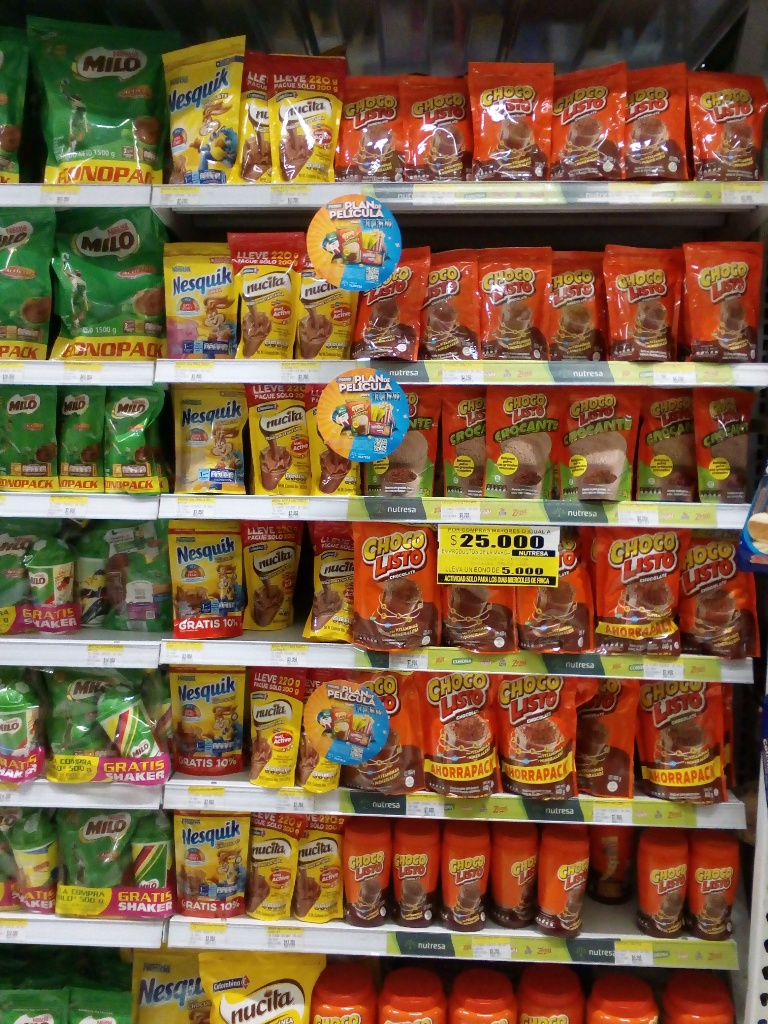COL0170102DYP25000: (369, 395, 443, 496)
COL0170103DYP44000: (637, 678, 737, 807)
COL0170103TRR30000: (336, 813, 396, 929)
COL0170203DYP25000: (104, 384, 167, 494)
COL0170203DYP50000: (57, 800, 137, 919)
COL0170303DYP20000: (151, 33, 248, 186)
COL0170305DYP20000: (159, 240, 242, 366)
COL0170306DYP20000: (169, 381, 249, 498)
